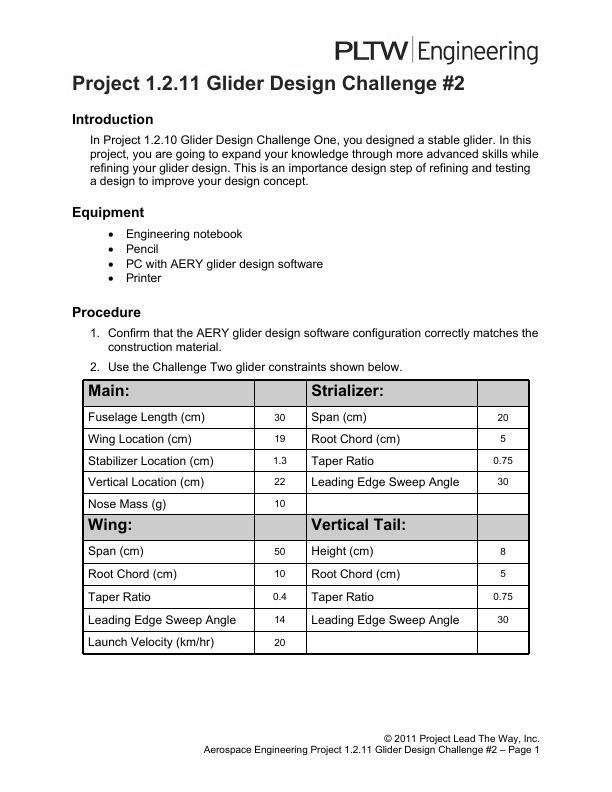table: (80, 376, 537, 661)
text: (66, 112, 545, 194), (69, 302, 542, 374), (67, 203, 327, 291), (202, 731, 547, 765), (67, 71, 470, 98)
